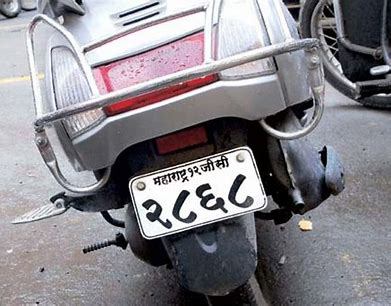license-plate: (120, 144, 278, 244)
